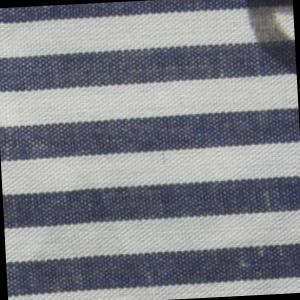Stain: (243, 1, 297, 81)
